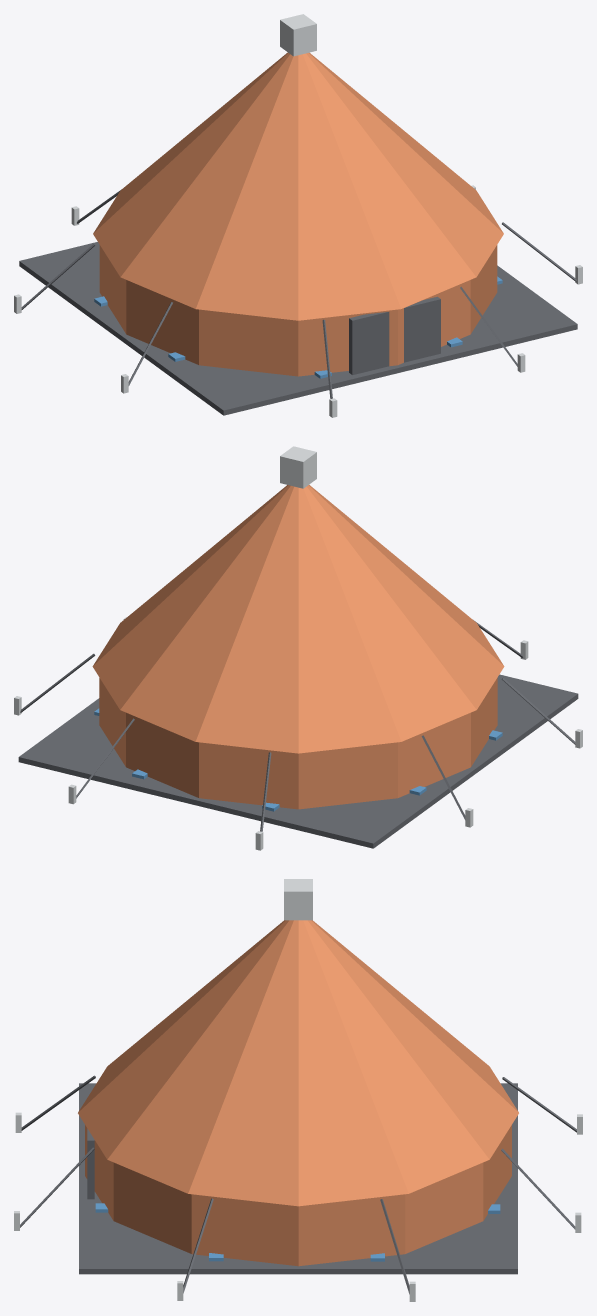
Rendered from caravan-park-and-campsite-bell-tent-d7f74bfd.glb.
3 views of the same model, one above another, from view 1: azimuth 30°, elevation 25°; view 2: azimuth 150°, elevation 25°; view 3: azimuth 270°, elevation 25° (orthographic). The views are drawn at different scales.
Parts seen in each view (by area): view 1: bell-tent-flame, bell-tent-charcoal, bell-tent-galv; view 2: bell-tent-flame, bell-tent-charcoal, bell-tent-galv; view 3: bell-tent-flame, bell-tent-charcoal, bell-tent-galv.
Part boxes in pixels (left/top/right/bottom): bell-tent-flame: left=93, top=52, right=503, bottom=376; bell-tent-charcoal: left=19, top=189, right=577, bottom=415; bell-tent-galv: left=14, top=14, right=582, bottom=417; bell-tent-flame: left=92, top=485, right=504, bottom=809; bell-tent-charcoal: left=18, top=620, right=578, bottom=848; bell-tent-galv: left=14, top=446, right=582, bottom=850; bell-tent-flame: left=78, top=920, right=518, bottom=1266; bell-tent-charcoal: left=20, top=1075, right=576, bottom=1294; bell-tent-galv: left=14, top=879, right=582, bottom=1301.
Size of the model in its own units: 4.66 by 2.68 by 4.66.
